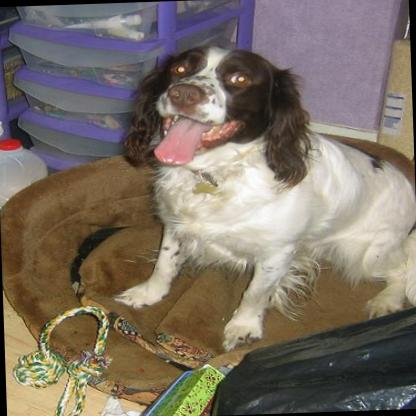English_springer: (100, 35, 416, 357)
